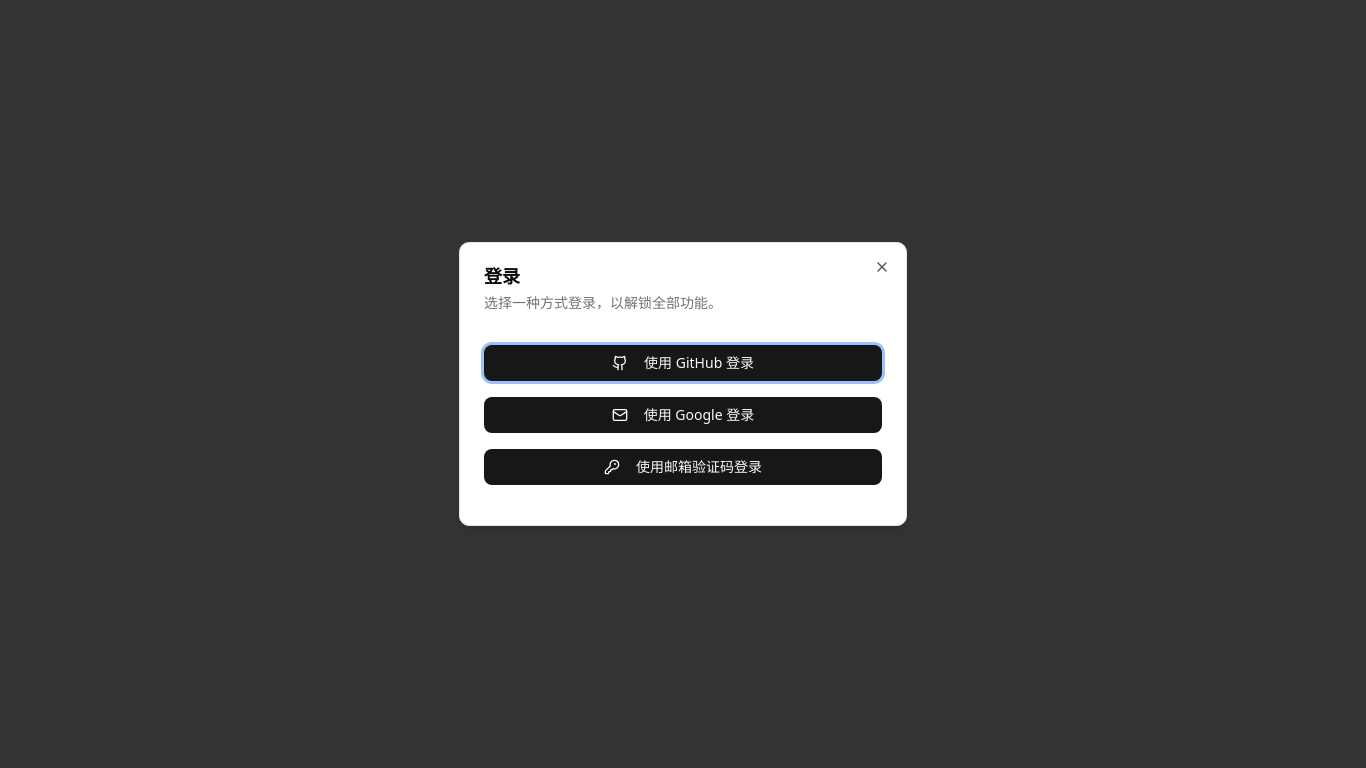
Scenario: LoginDialog › verify 消费后失败会回邮箱输入页并保持弹窗打开
The width and height of the screenshot is (1366, 768).
Click the button "使用邮箱验证码登录" at (683,467), box [484,449,882,485]
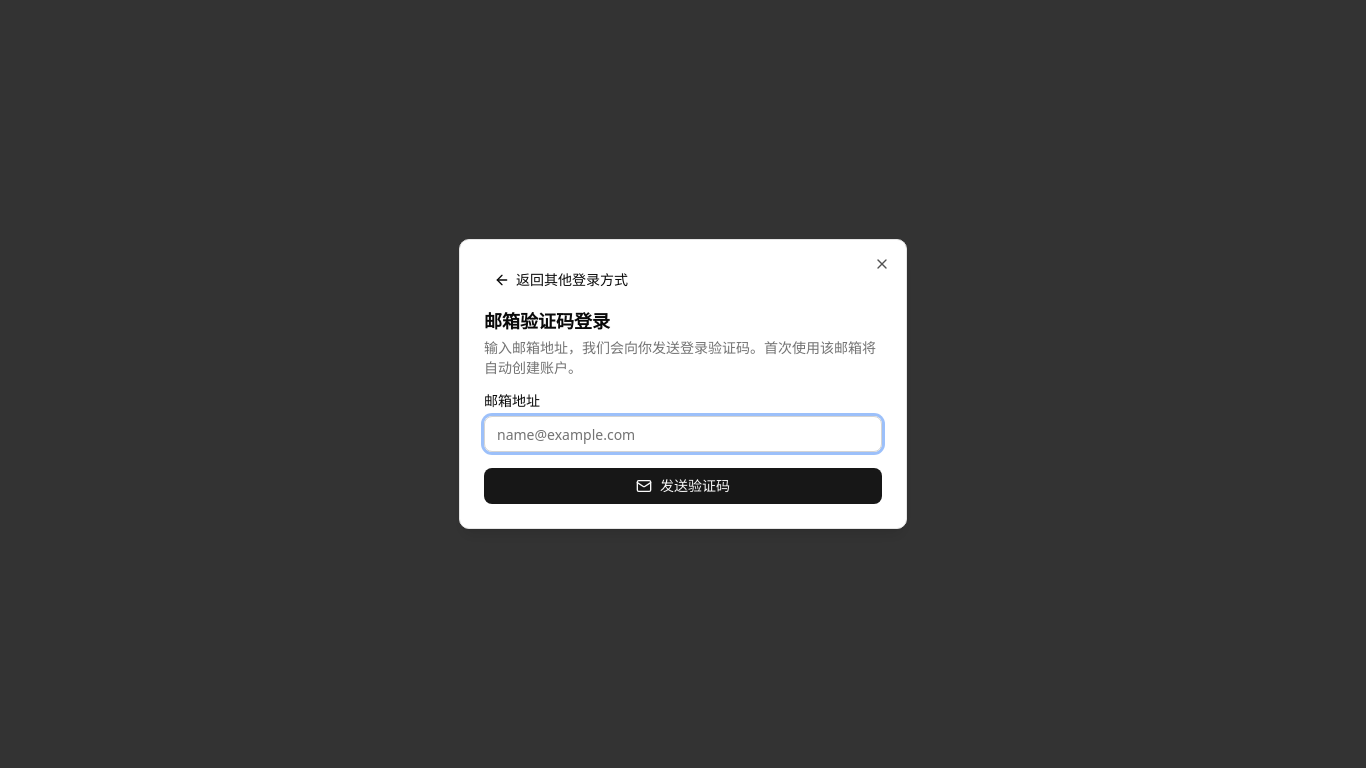
Type "user@example.com" into the field labelled "邮箱地址" at (683,434), box [484,416,882,452]
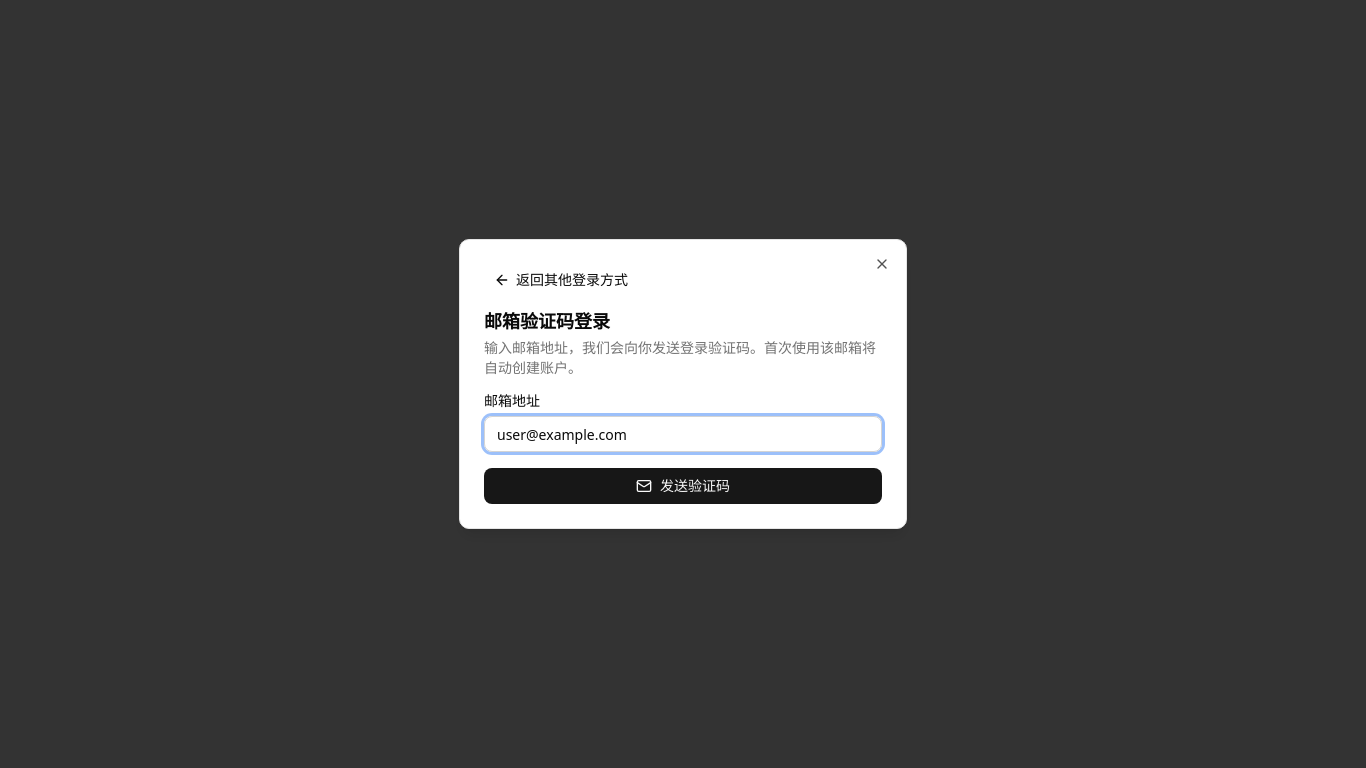
Click the button "发送验证码" at (683,486), box [484,468,882,504]
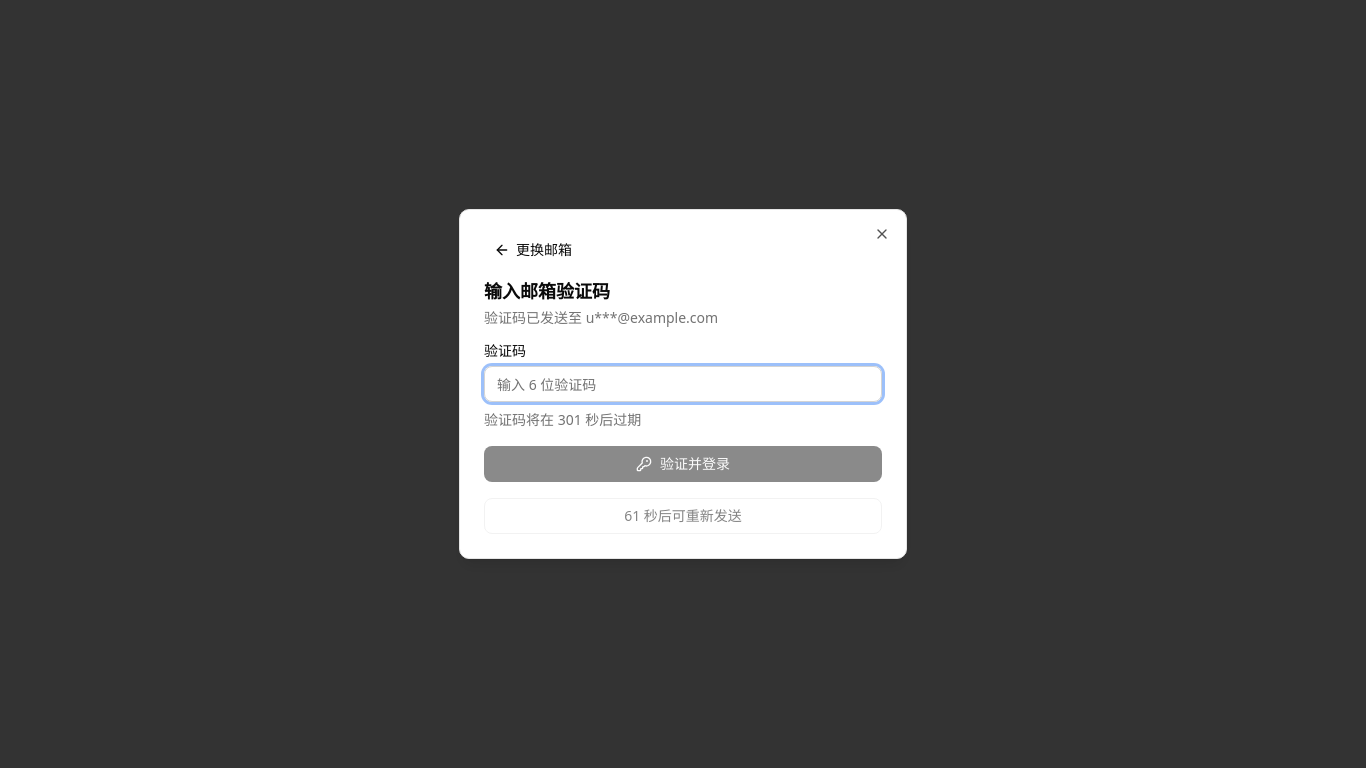
Type "123456" into the field labelled "验证码" at (683,384), box [484,366,882,402]
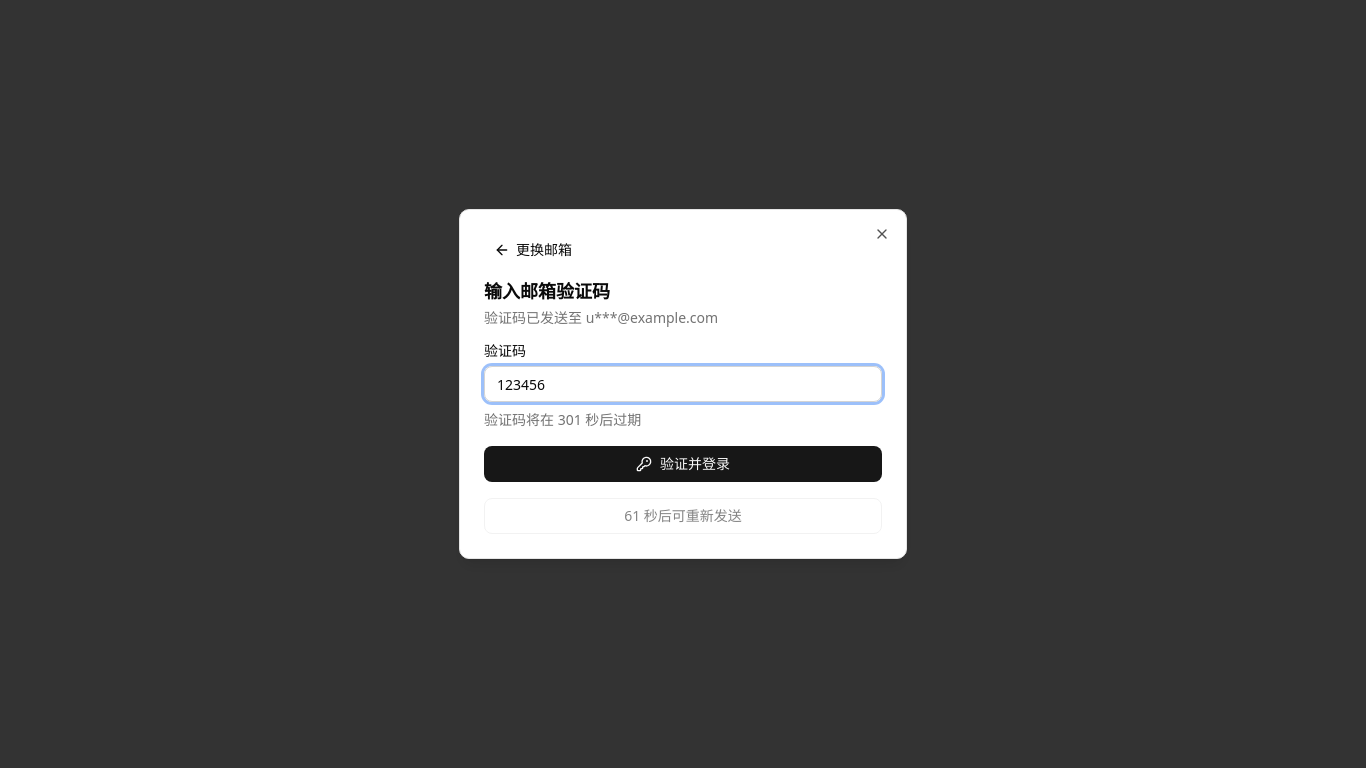
Click the button "验证并登录" at (683,464), box [484,446,882,482]
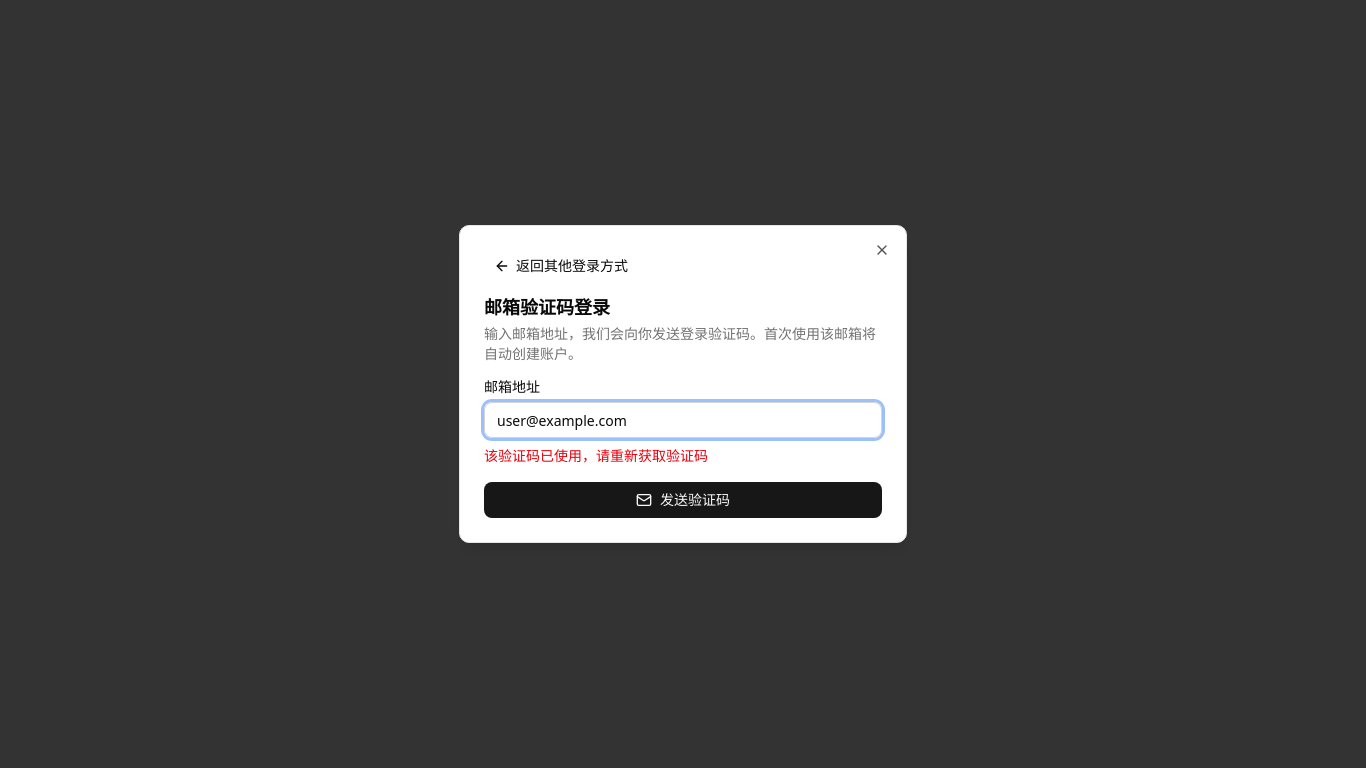
Result: the message reads "该验证码已使用，请重新获取验证码" at [484,446,708,465]
